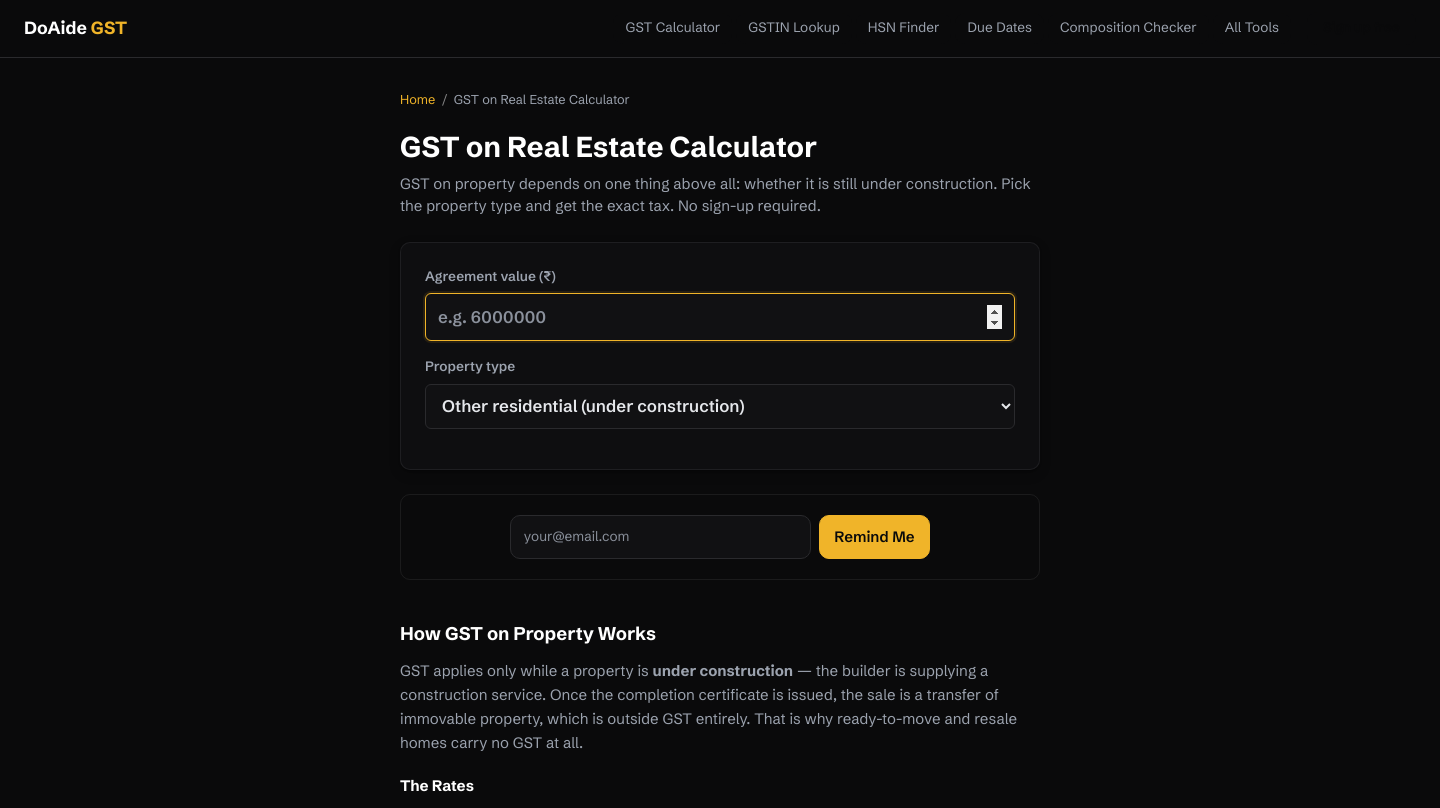
Test: GstOnRealEstatePage › shows ITC available at the effective 12% commercial rate
In the number field with placeholder "e.g. 6000000": (720, 317) [425,293,1015,341], type "10000000"
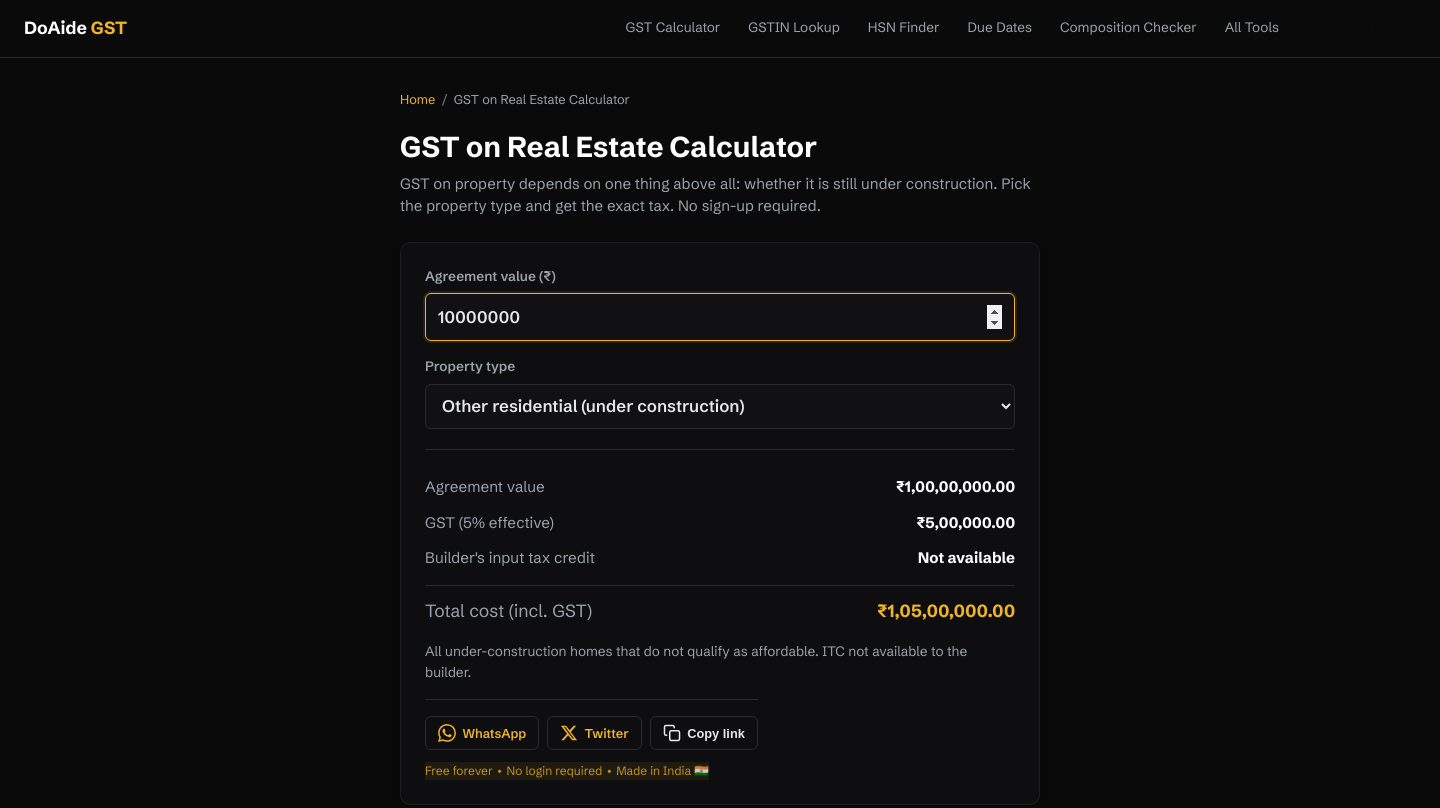
Select "Commercial (under construction)" in the dropdown: (720, 406) [425,384,1015,429]
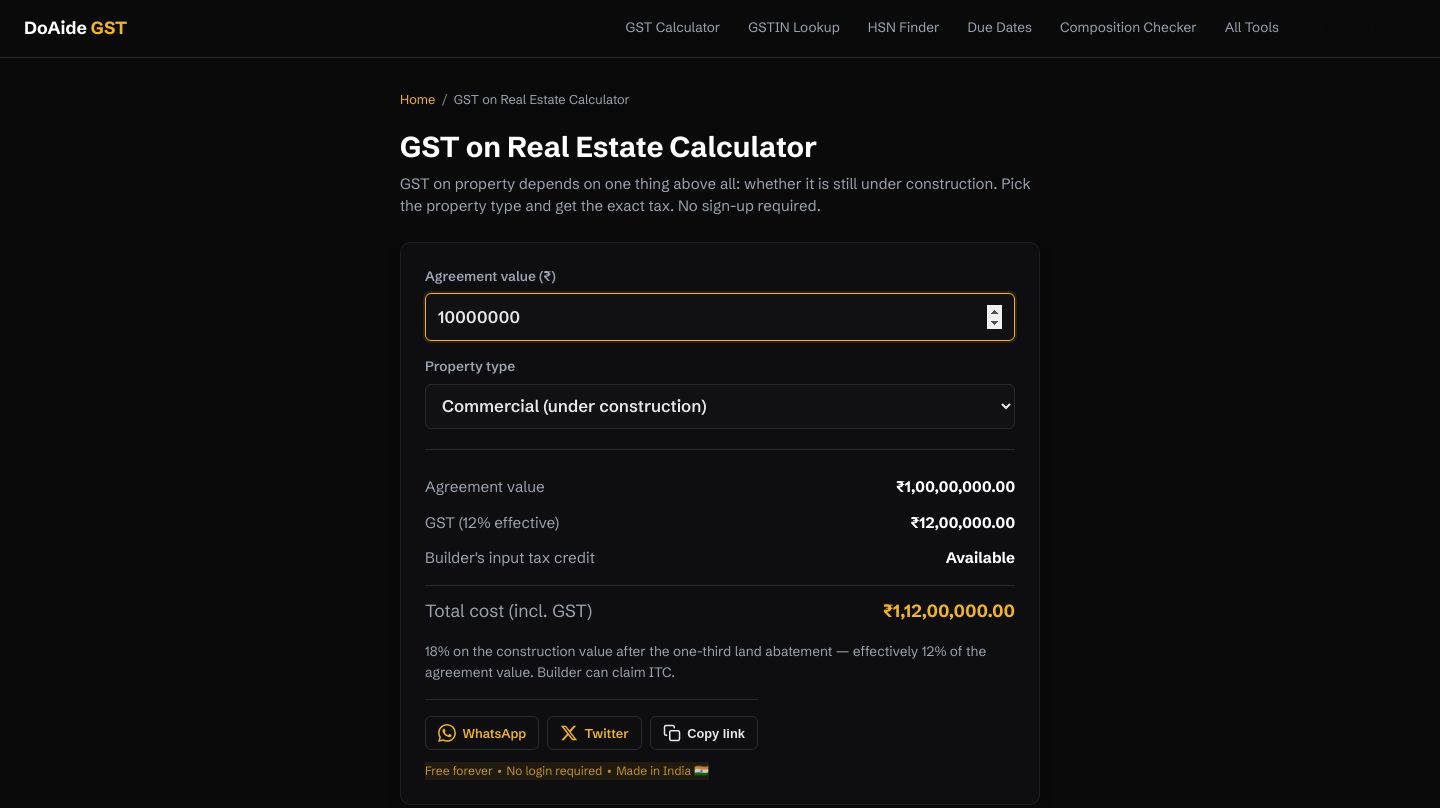
Check: the text "Available" is shown, box [946,547,1015,570]
Check: the text "GST (12% effective)" is shown, box [425,512,559,535]
